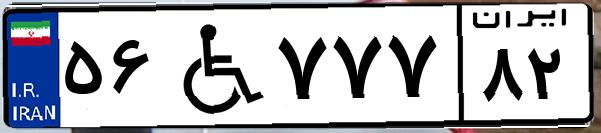2: (525, 38, 570, 115)
5: (57, 26, 110, 100)
6: (110, 28, 158, 98)
7: (270, 28, 330, 110), (385, 28, 445, 110), (330, 28, 385, 110)
8: (475, 38, 525, 113)
ژ (معلولین و جانبازان): (158, 12, 270, 120)
